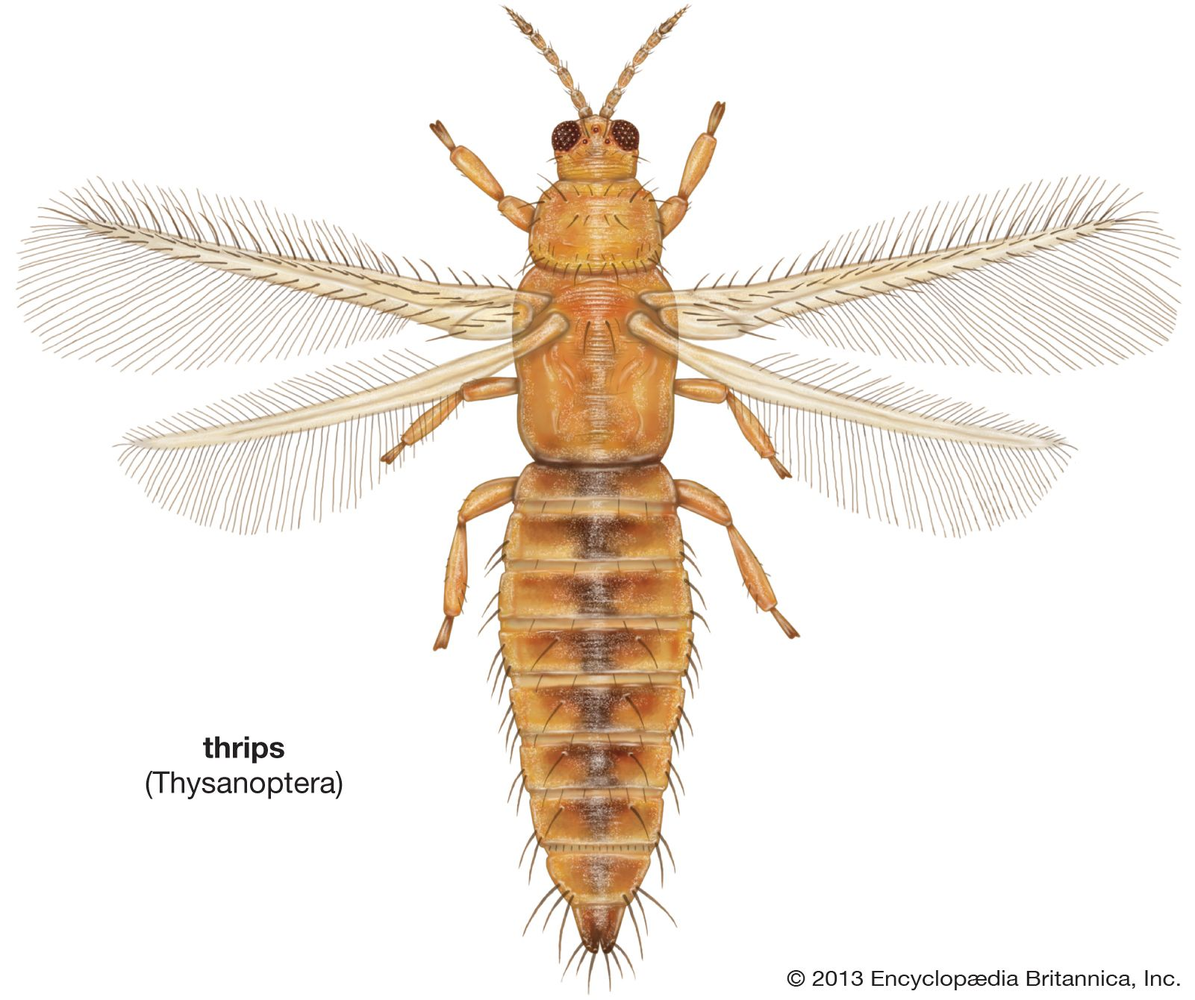Thripidae: (20, 3, 1195, 986)
